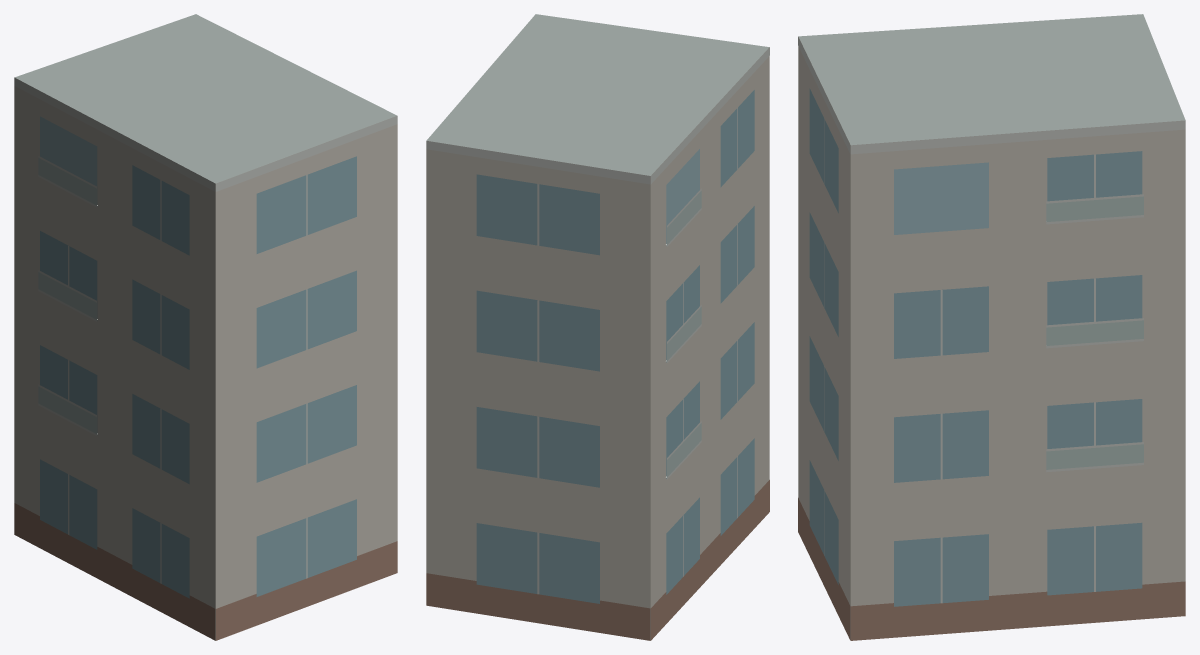
File: survey-upis-32456512.glb
3 views of the same model, side by side, from view 1: azimuth 30°, elevation 25°; view 2: azimuth 150°, elevation 25°; view 3: azimuth 270°, elevation 25° (orthographic). The views are drawn at different scales.
Parts seen in each view (by area): view 1: survey-upis-32456512.tmp; view 2: survey-upis-32456512.tmp; view 3: survey-upis-32456512.tmp.
Boxes of the visible parts, x1,y1,x2,y2 form: survey-upis-32456512.tmp: (14, 14, 397, 640); survey-upis-32456512.tmp: (426, 14, 769, 640); survey-upis-32456512.tmp: (798, 14, 1185, 640).
Bounding box in the file's own units: 7.53 × 13.25 × 9.4.
